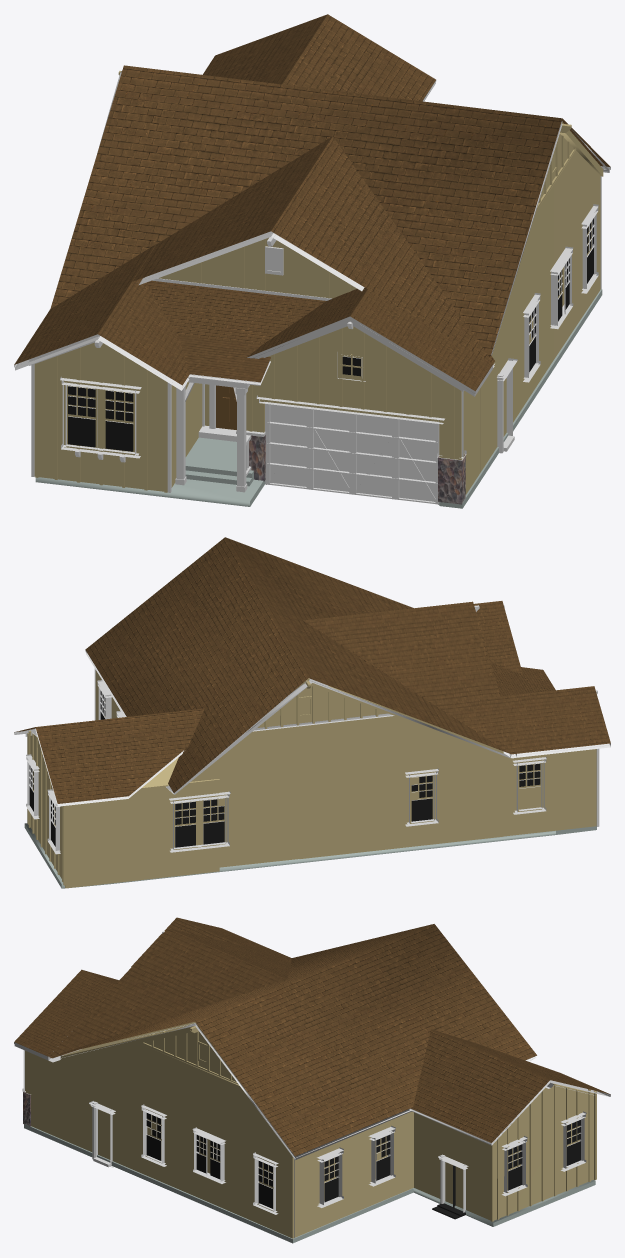
Rendered from KBhomes_1989_elevation_farmhouse.glb.
3 views of the same model, one above another, from view 1: azimuth 30°, elevation 25°; view 2: azimuth 150°, elevation 25°; view 3: azimuth 270°, elevation 25° (orthographic). The views are drawn at different scales.
Visible parts, largest first — view 1: Cube.171; view 2: Cube.171; view 3: Cube.171.
Part boxes in pixels (x1=…): Cube.171: x1=14, y1=14, x2=610, y2=508; Cube.171: x1=14, y1=537, x2=610, y2=888; Cube.171: x1=14, y1=917, x2=610, y2=1243.
Size of the model in its own units: 20.61 by 7.66 by 22.54.
8 materials, 2 textured.
